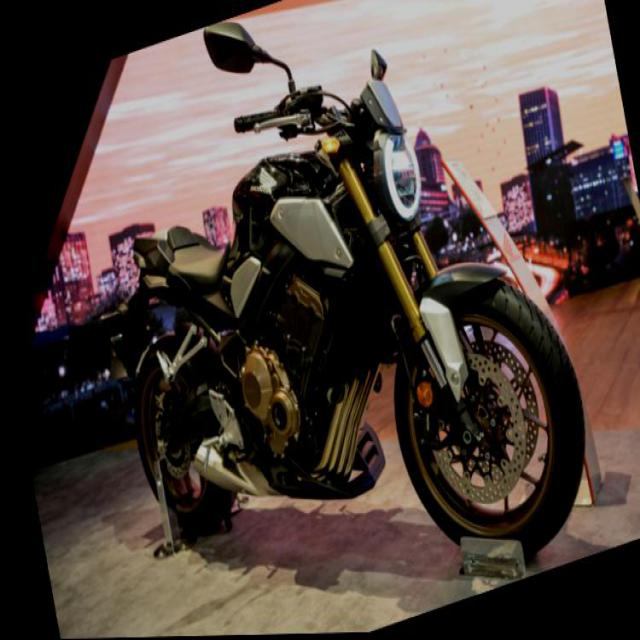CB650R: (89, 67, 606, 637)
